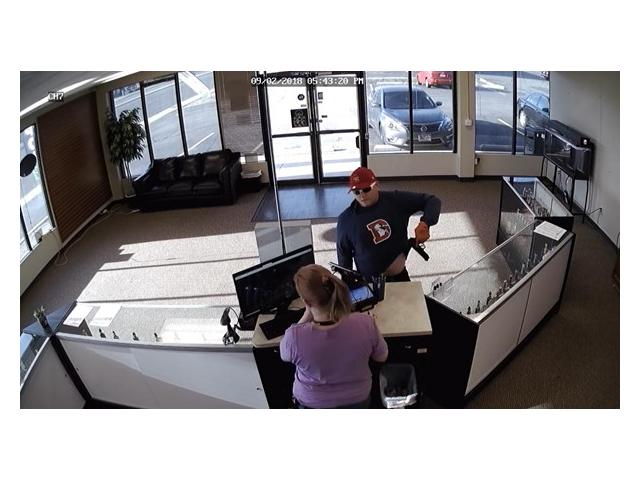pistol: (408, 231, 433, 265)
